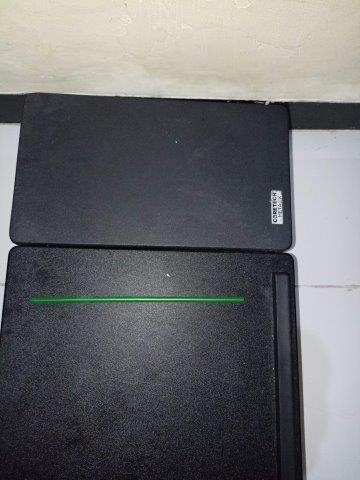sedotan: (30, 296, 244, 304)
